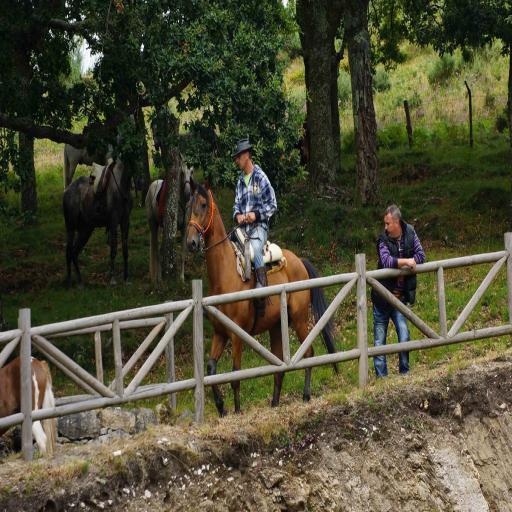horse: (184, 172, 342, 418), (62, 144, 147, 288), (145, 150, 194, 286), (0, 354, 57, 455), (60, 120, 122, 190)
